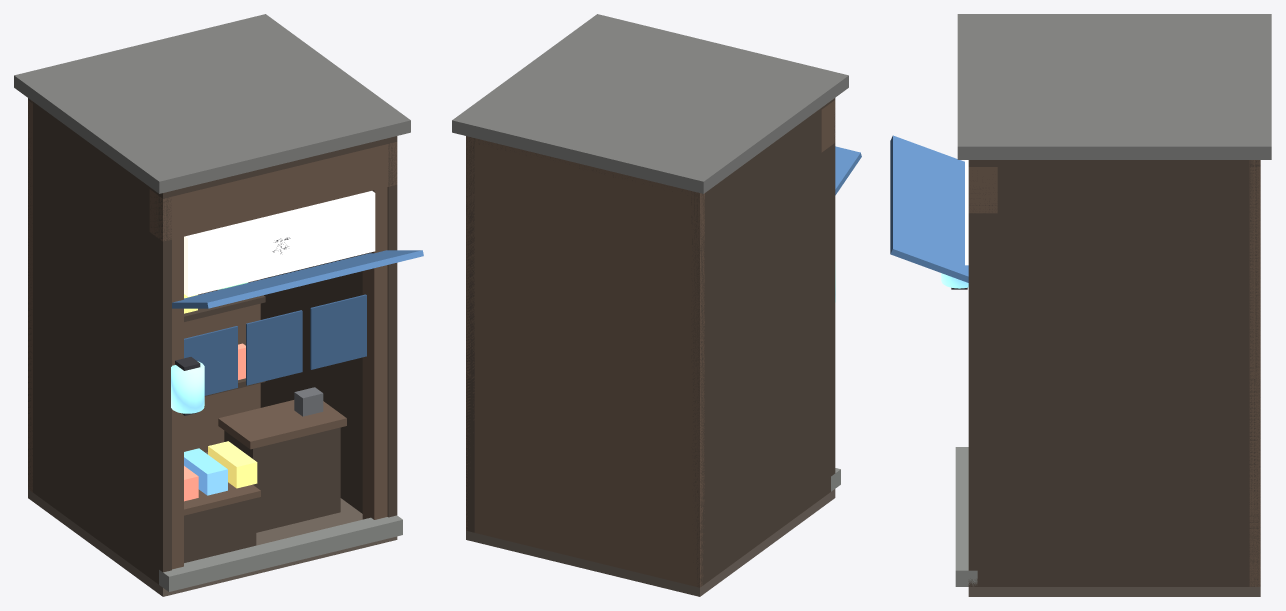
The model's file is shop_ao.glb.
3 views of the same model, side by side, from view 1: azimuth 30°, elevation 25°; view 2: azimuth 150°, elevation 25°; view 3: azimuth 270°, elevation 25° (orthographic). The views are drawn at different scales.
Visible parts, largest first — view 1: shop_ao; view 2: shop_ao; view 3: shop_ao.
Part boxes in pixels (left/top/right/bottom): shop_ao: left=14, top=14, right=423, bottom=596; shop_ao: left=452, top=14, right=861, bottom=596; shop_ao: left=890, top=14, right=1271, bottom=596.
Bounding box in the file's own units: 8.6 × 13.75 × 10.44.
